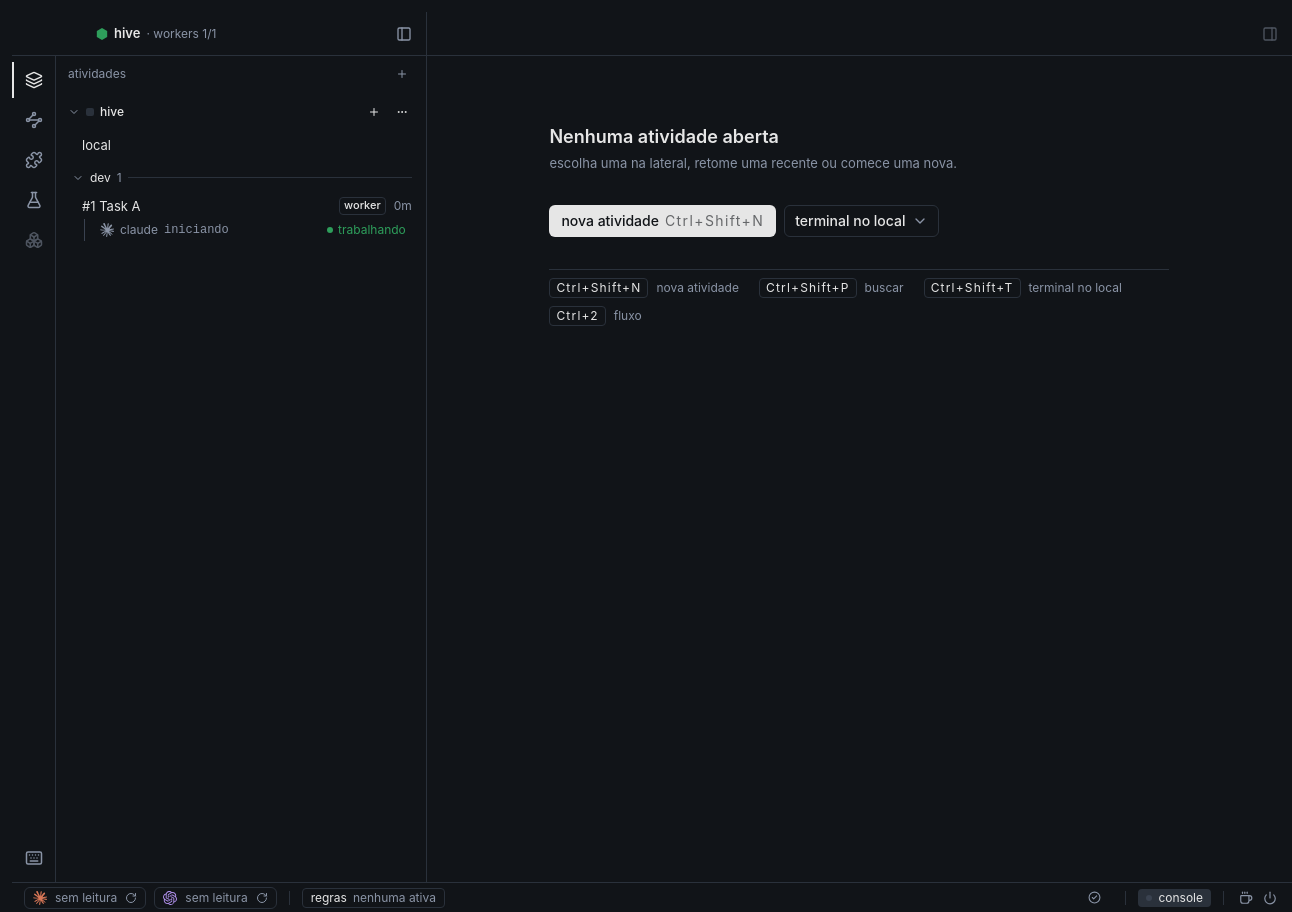
Test: in the flow view the details pane draws no group header, no Detalhes tab and no ×: the header's detalhes icon names it and closes it (#221, #295)
The width and height of the screenshot is (1292, 912).
What coordinates should you click on to do the following:
click the button named "fluxo"
I would click on:
 (34, 120)
Its box is [12,102,56,138].
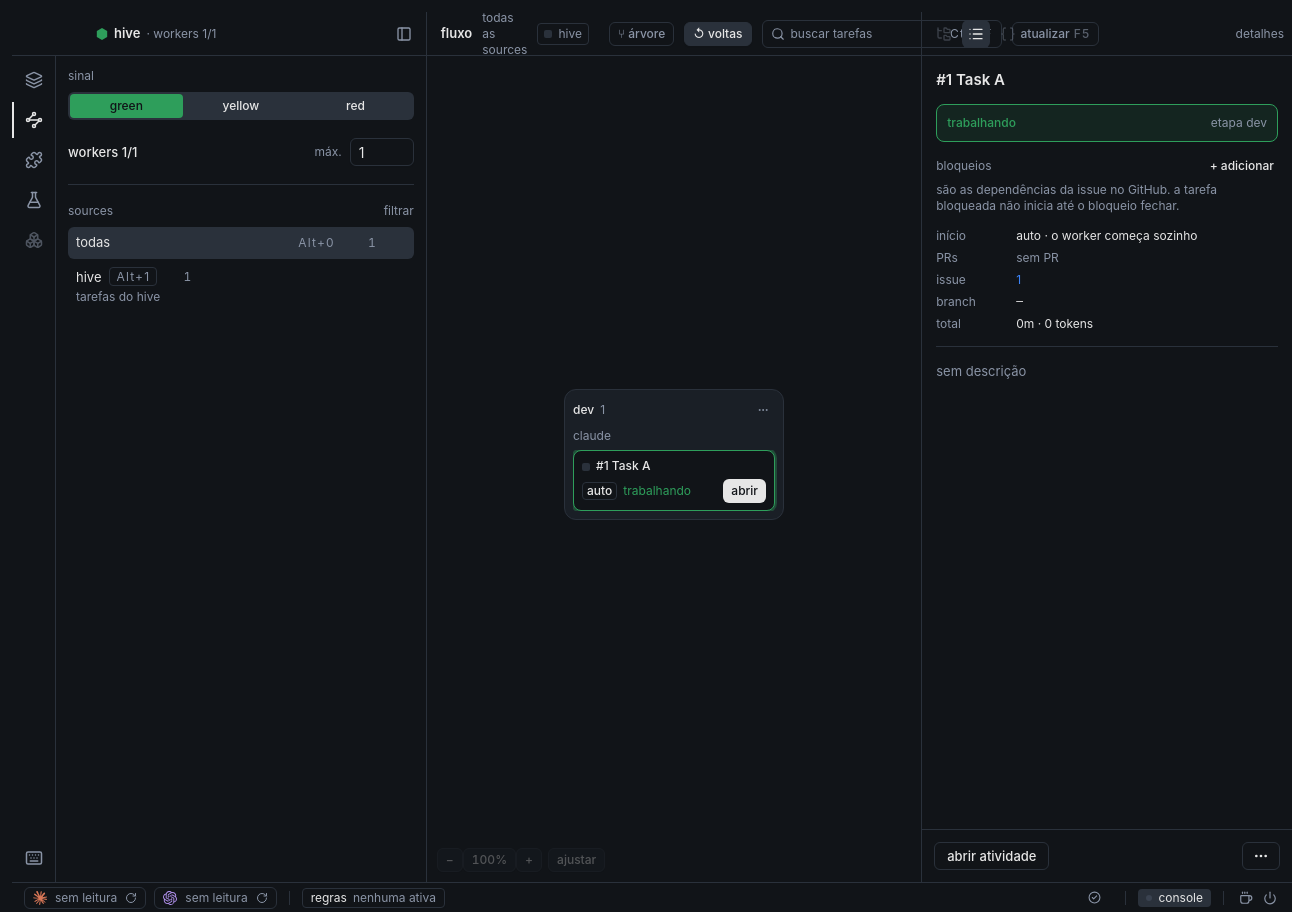
Check: the button named "detalhes" is pressed
What coordinates should you click on to do the following:
click the button named "detalhes"
I would click on:
 (976, 34)
Its box is [962,20,990,48].
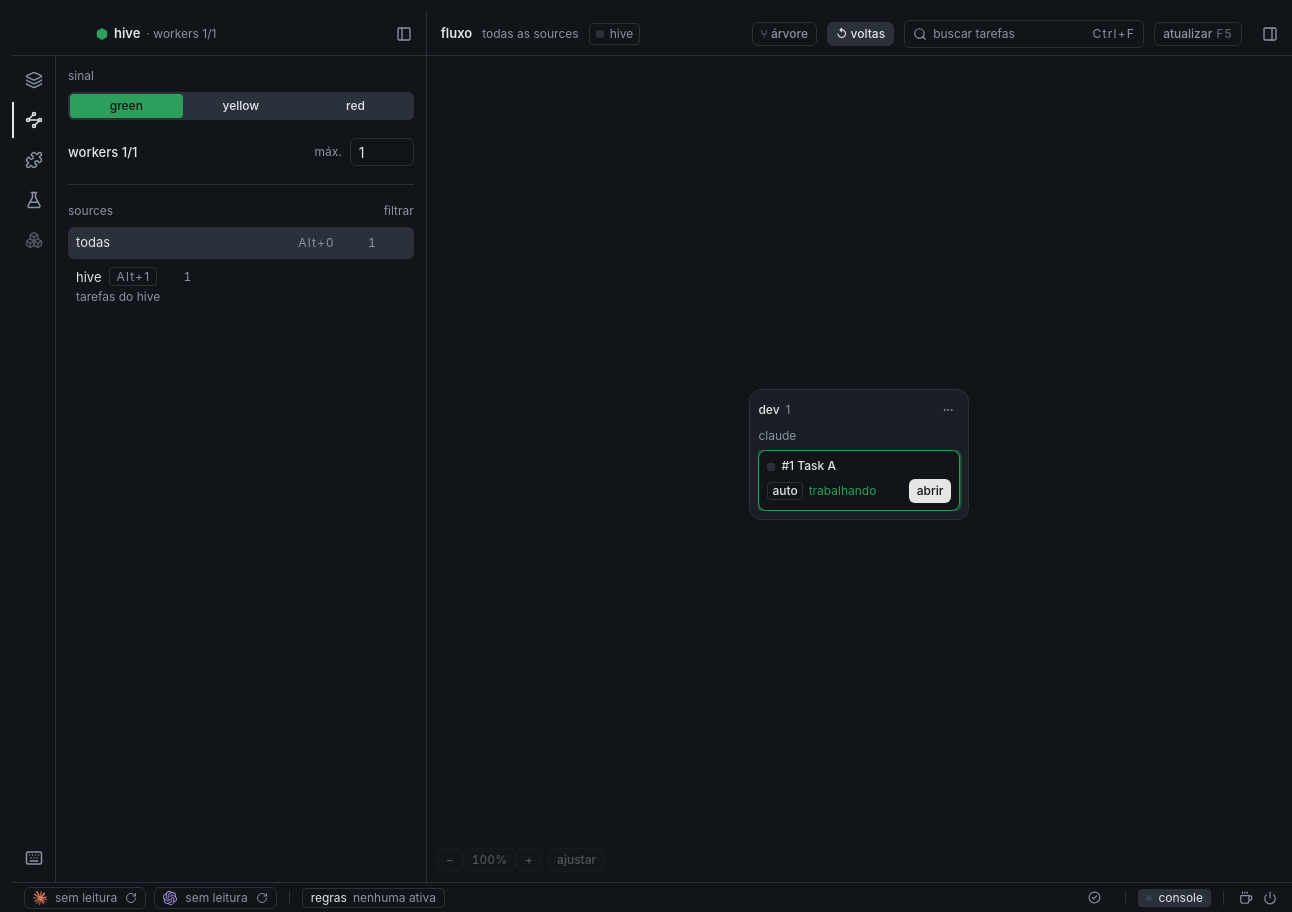
Check: the button named "abrir lateral direita" is enabled, box [1256,20,1284,48]
